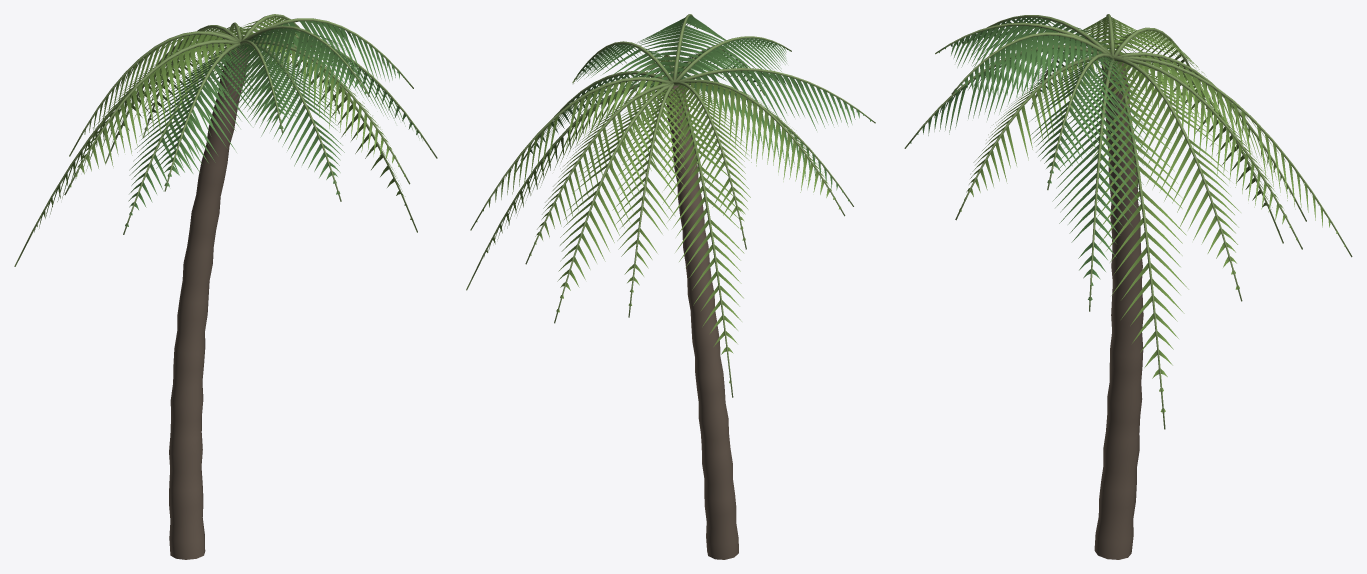
Rendered from palm.glb.
3 renders of one model, left to right at view 1: azimuth 30°, elevation 25°; view 2: azimuth 150°, elevation 25°; view 3: azimuth 270°, elevation 25°, orthographic. The views are drawn at different scales.
Parts seen in each view (by area): view 1: palm; view 2: palm; view 3: palm.
Boxes of the visible parts, x1,y1,x2,y2 form: palm: [14, 14, 437, 559]; palm: [466, 14, 875, 559]; palm: [904, 14, 1352, 559].
Size of the model in its own units: 6.47 by 8.61 by 6.25.
